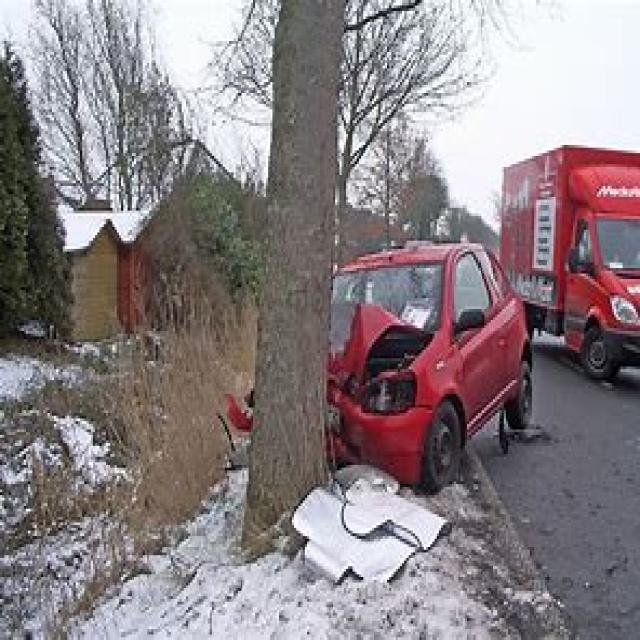Accident: (240, 163, 565, 530)
